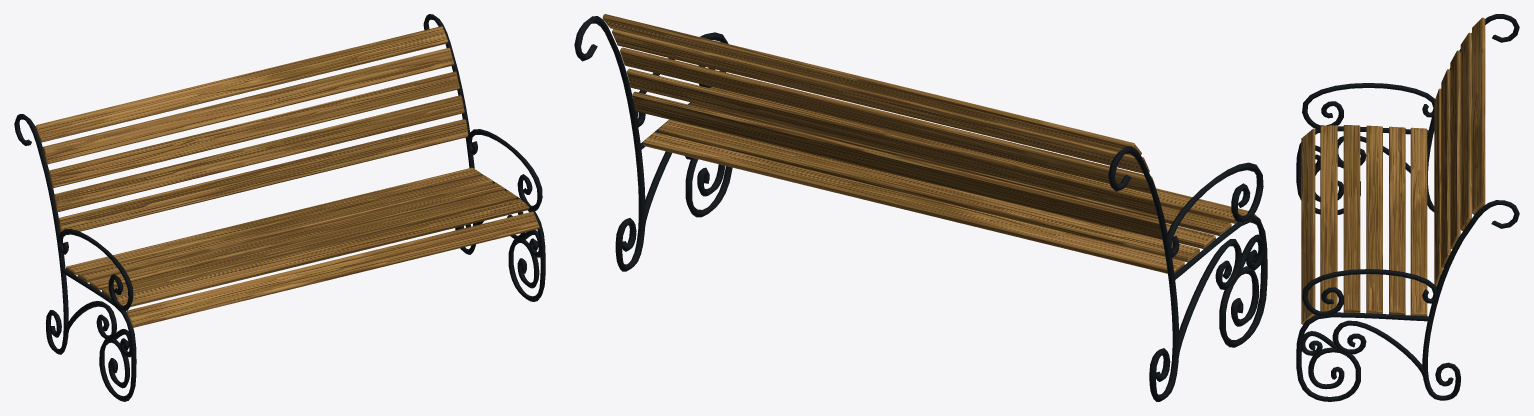
File: Wooden bench.fbx
3 views of the same model, side by side, from view 1: azimuth 30°, elevation 25°; view 2: azimuth 150°, elevation 25°; view 3: azimuth 270°, elevation 25° (orthographic). The views are drawn at different scales.
Parts seen in each view (by area): view 1: Wooden bench; view 2: Wooden bench; view 3: Wooden bench.
Boxes of the visible parts, <box> form: Wooden bench: <box>14,14,545,401</box>; Wooden bench: <box>574,14,1267,401</box>; Wooden bench: <box>1296,14,1519,401</box>.
Size of the model in its own units: 203 by 101 by 102.
